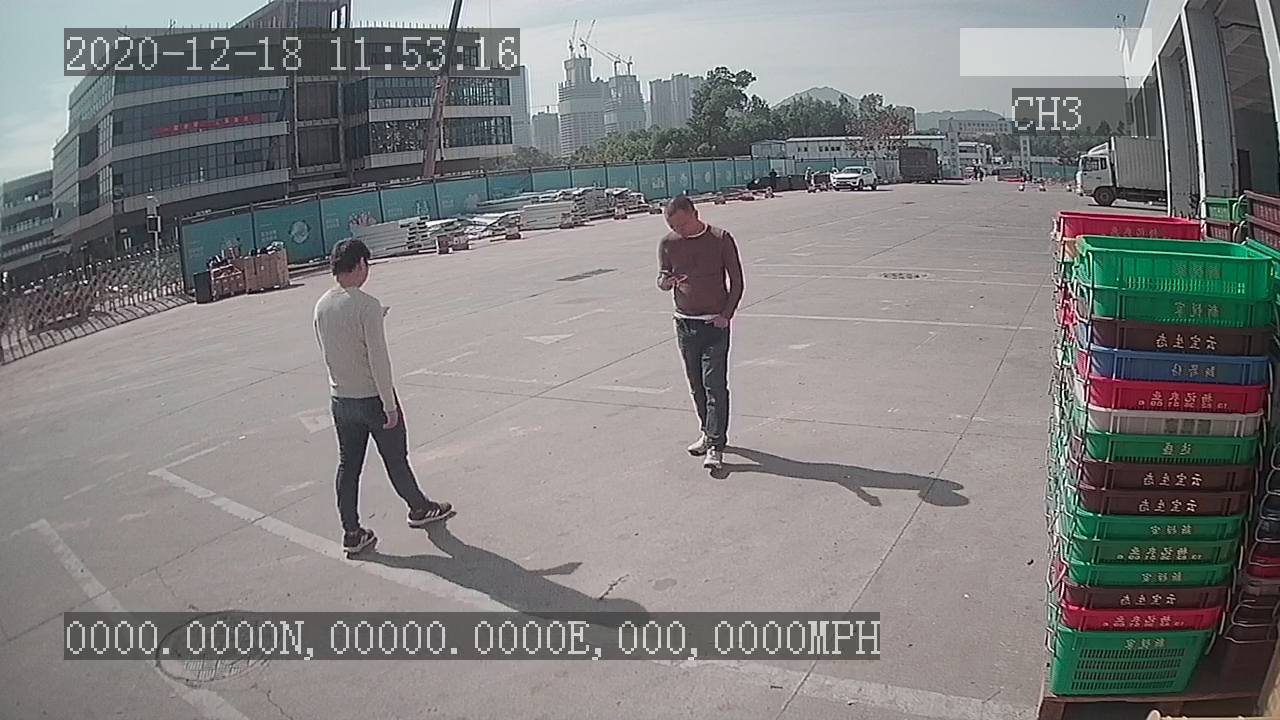person: (302, 231, 461, 561), (643, 190, 756, 483)
